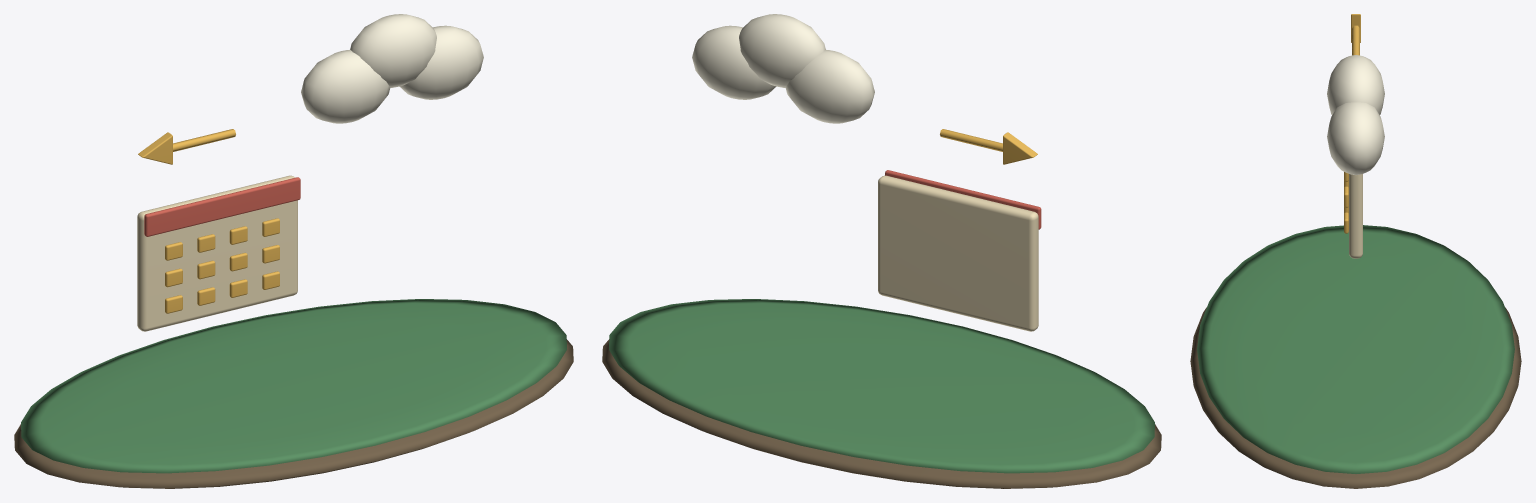
Rendered from yesterday-page.glb.
3 renders of one model, left to right at view 1: azimuth 30°, elevation 25°; view 2: azimuth 150°, elevation 25°; view 3: azimuth 270°, elevation 25°, orthographic. The views are drawn at different scales.
Visible parts, largest first — view 1: yesterday-page_surface_01, yesterday-page_surface_02, yesterday-page_surface_05, yesterday-page_surface_00, yesterday-page_surface_04, yesterday-page_surface_03; view 2: yesterday-page_surface_01, yesterday-page_surface_02, yesterday-page_surface_05, yesterday-page_surface_00, yesterday-page_surface_04, yesterday-page_surface_03; view 3: yesterday-page_surface_01, yesterday-page_surface_00, yesterday-page_surface_05, yesterday-page_surface_02, yesterday-page_surface_04.
Part boxes in pixels (x1,y1,x2,y2): yesterday-page_surface_01: (21, 299, 566, 473); yesterday-page_surface_02: (137, 175, 297, 331); yesterday-page_surface_05: (301, 14, 483, 123); yesterday-page_surface_00: (14, 339, 573, 488); yesterday-page_surface_04: (138, 129, 279, 313); yesterday-page_surface_03: (144, 177, 300, 236); yesterday-page_surface_01: (609, 299, 1154, 473); yesterday-page_surface_02: (878, 175, 1038, 331); yesterday-page_surface_05: (692, 14, 874, 123); yesterday-page_surface_00: (602, 339, 1161, 488); yesterday-page_surface_04: (940, 129, 1037, 164); yesterday-page_surface_03: (885, 170, 1041, 229); yesterday-page_surface_01: (1197, 225, 1514, 473); yesterday-page_surface_00: (1190, 307, 1521, 488); yesterday-page_surface_05: (1327, 55, 1384, 174); yesterday-page_surface_02: (1349, 174, 1362, 258); yesterday-page_surface_04: (1344, 14, 1360, 233).
Bounding box in the file's own units: 4.56 × 3.03 × 2.5.
